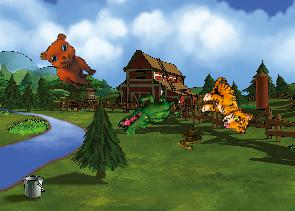bear: (35, 29, 105, 94)
crocodile: (115, 79, 180, 148)
tiger: (194, 73, 262, 137)
